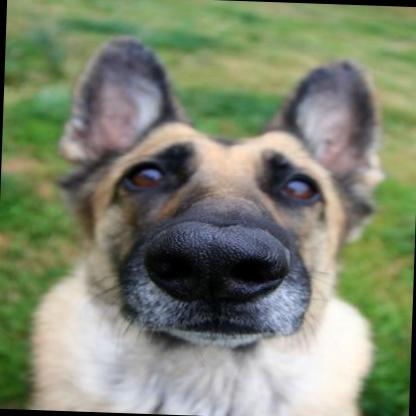German_shepherd: (23, 33, 389, 416)
